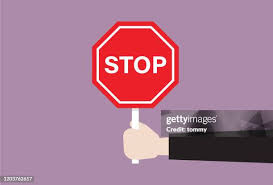stop sign: (92, 23, 180, 105)
